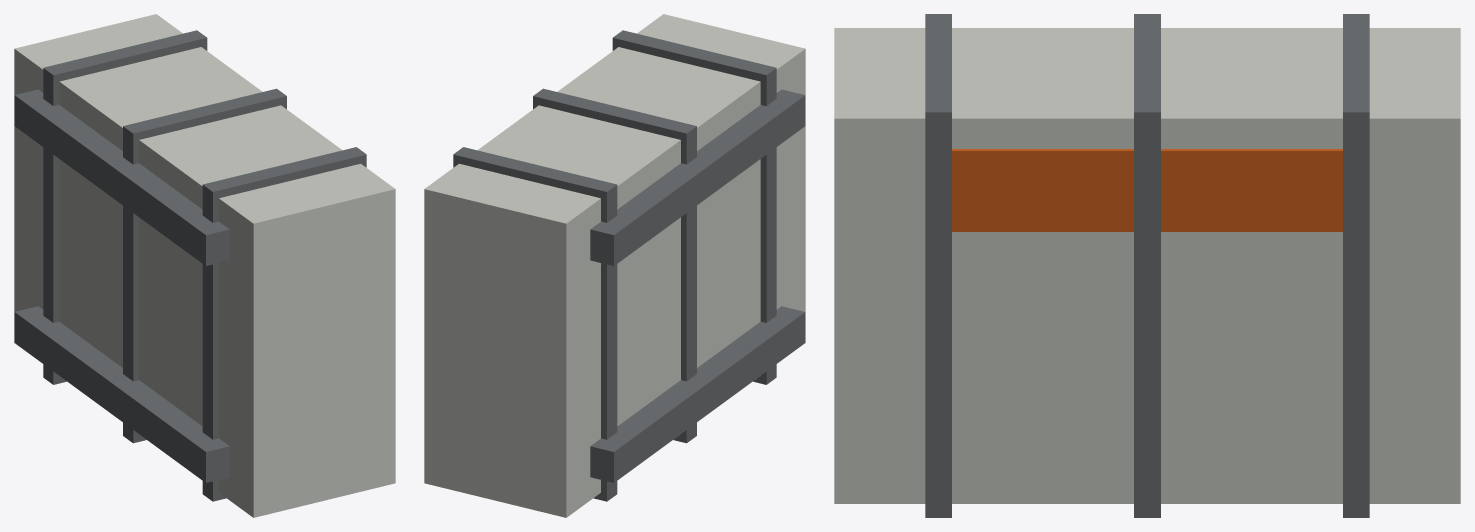
File: u73l_field_ctl.obj
3 renders of one model, left to right at view 1: azimuth 30°, elevation 25°; view 2: azimuth 150°, elevation 25°; view 3: azimuth 270°, elevation 25°, orthographic. The views are drawn at different scales.
Visible parts, largest first — view 1: u73l_field_ctl; view 2: u73l_field_ctl; view 3: u73l_field_ctl.
Part boxes in pixels (bbox=[...]): u73l_field_ctl: bbox=[14, 14, 395, 517]; u73l_field_ctl: bbox=[424, 14, 805, 517]; u73l_field_ctl: bbox=[834, 14, 1460, 517].
Bounding box in the file's own units: 0.58 × 1 × 1.4.
